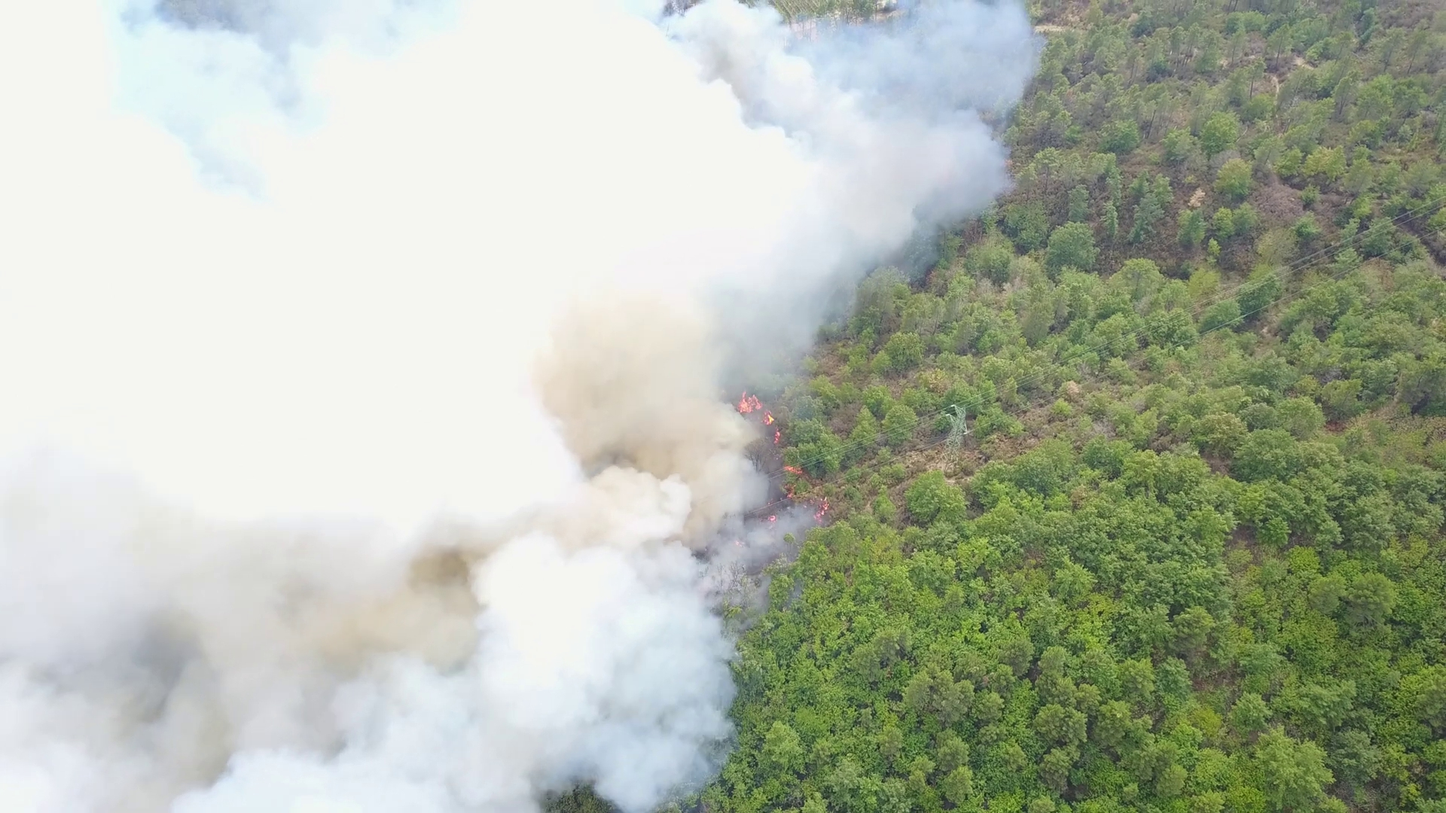forest_fire: (736, 391, 828, 521)
